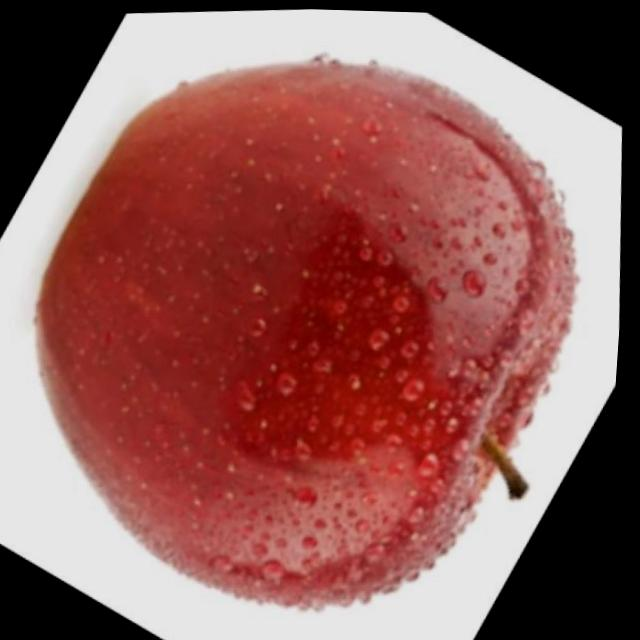Apple: (10, 33, 613, 633)
